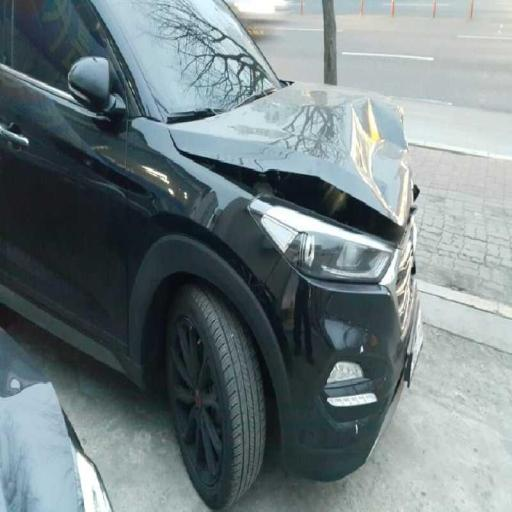dent: (207, 83, 412, 260), (266, 279, 372, 464)
scratch: (64, 133, 161, 247)
